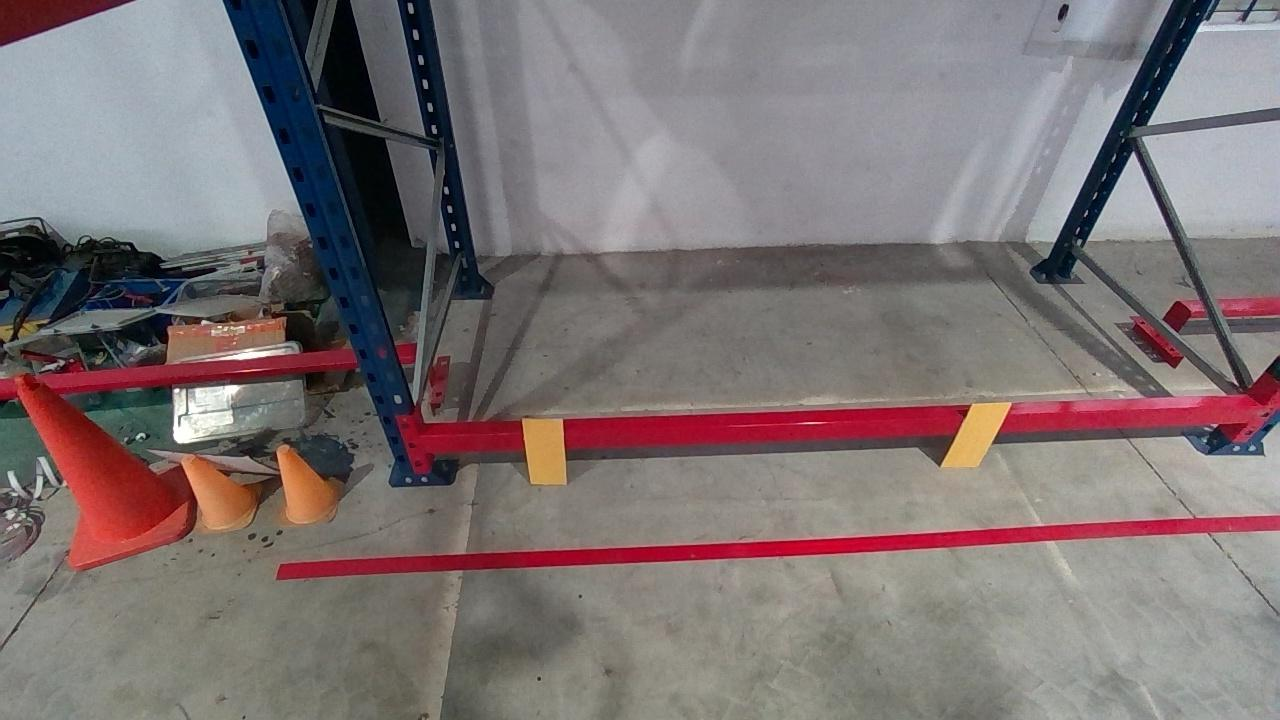h_rack: (423, 404, 1257, 450)
orange_strip: (939, 402, 1017, 468), (520, 418, 566, 483)
red_line: (277, 511, 1272, 579)
